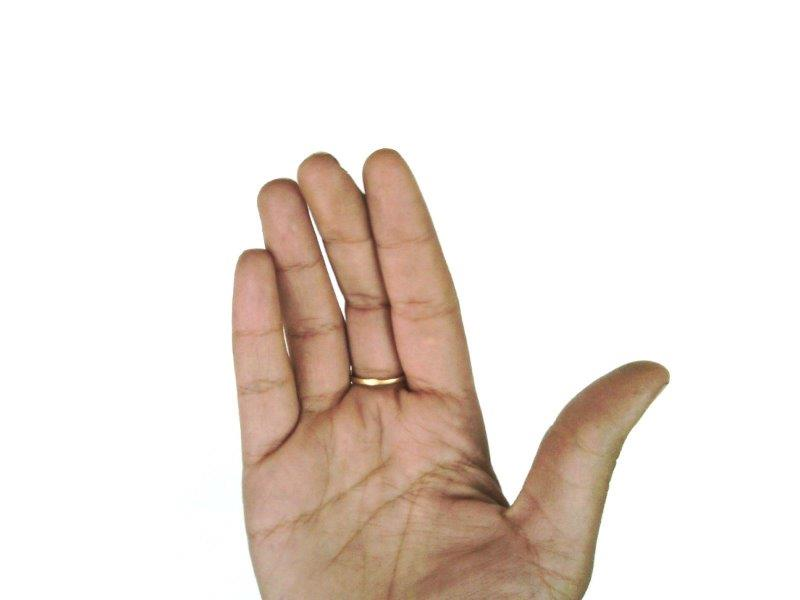hand: (232, 149, 668, 600)
